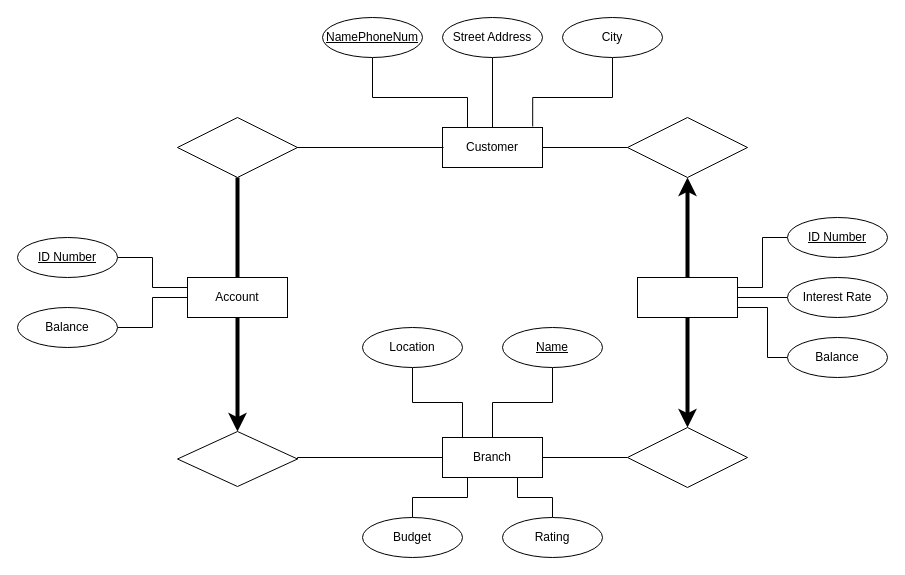
This 905x575 diagram has some shape labels left out. Each missing label, with the centre of its shape:
"AssignedTo" goes at [687,147].
"has" goes at [237,147].
"holds" goes at [237,458].
"Loan" goes at [687,297].
"offers" goes at [687,457].
